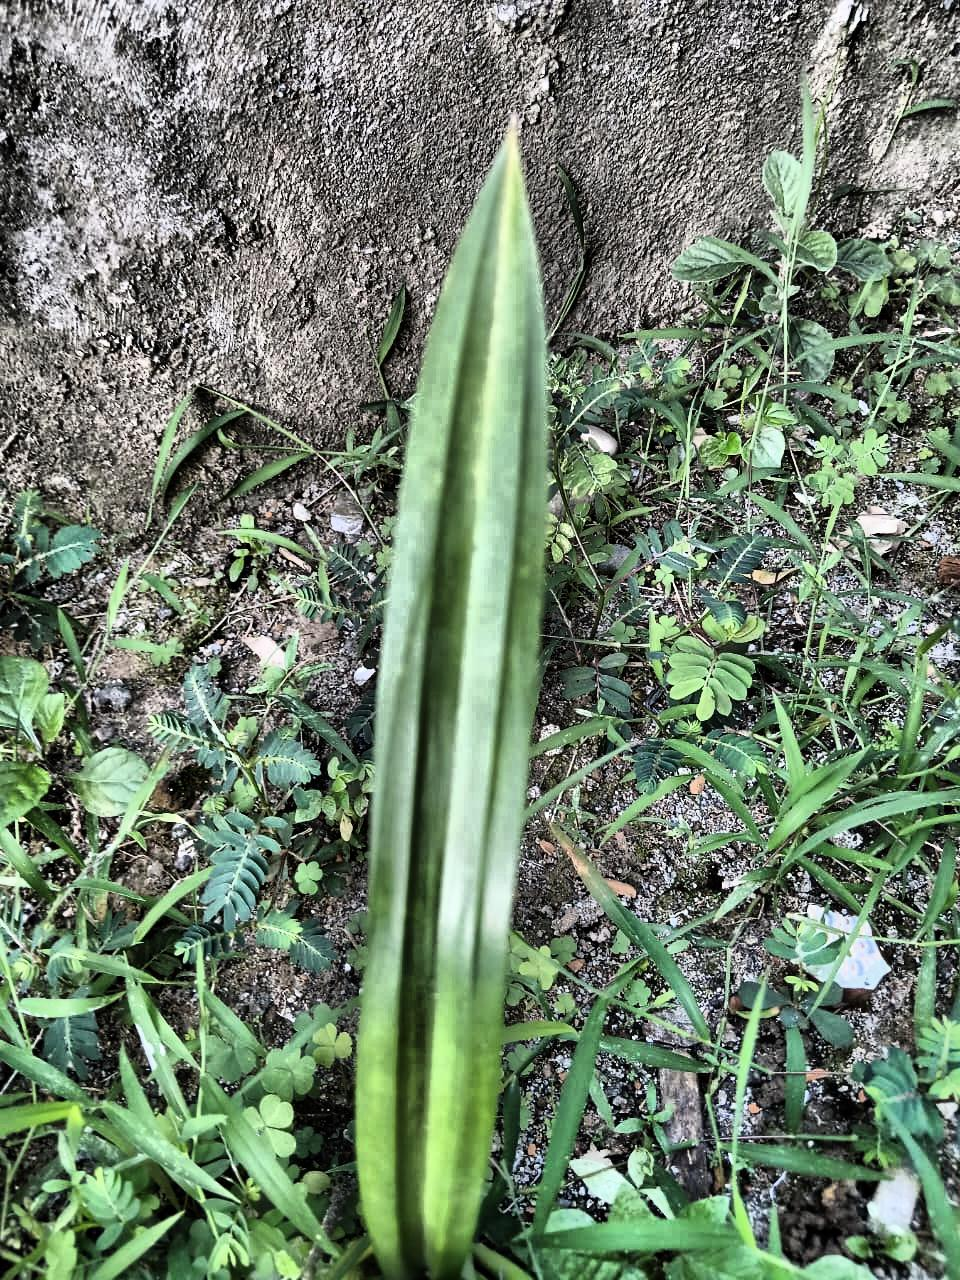daun pandan: (355, 130, 549, 1279)
